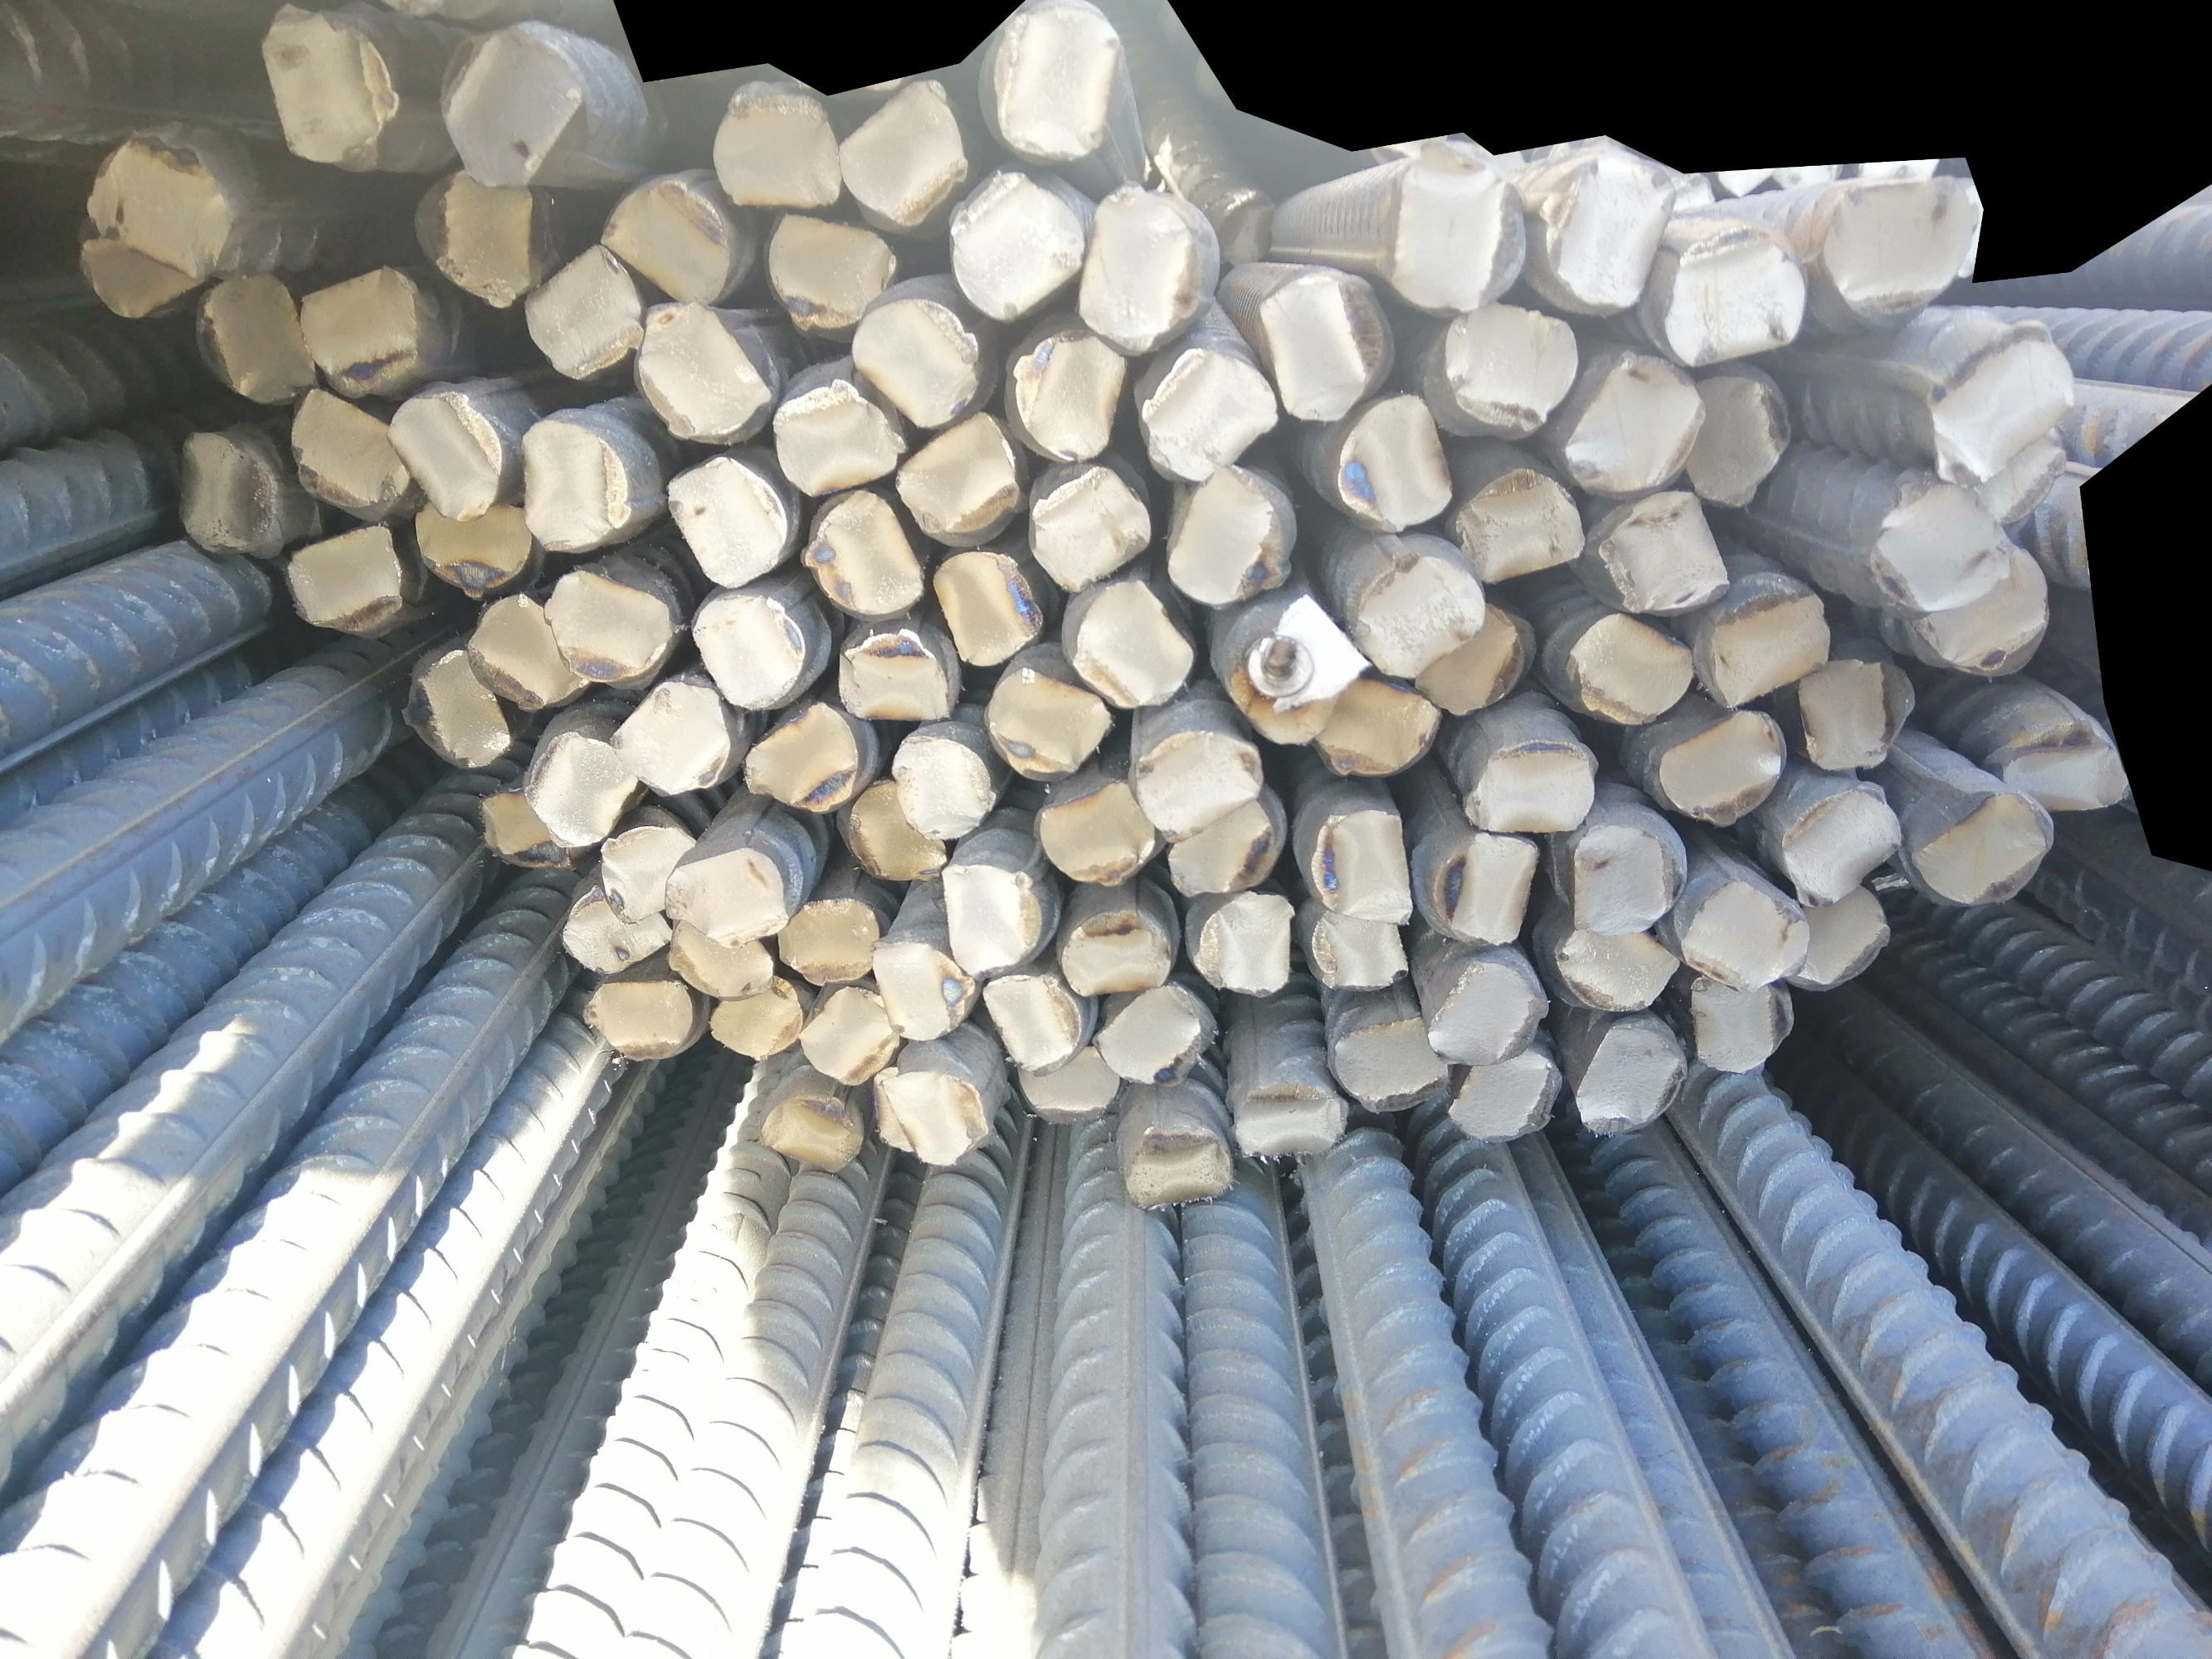rebar: (1912, 312, 2083, 484), (249, 0, 406, 171), (431, 19, 582, 190), (1825, 169, 1980, 333), (1388, 141, 1529, 314), (983, 0, 1130, 166), (1536, 155, 1679, 319), (1659, 225, 1815, 373), (1555, 349, 1705, 497), (1252, 260, 1382, 425), (1867, 476, 2020, 615), (950, 166, 1086, 321), (1433, 300, 1584, 437), (633, 298, 774, 444), (1079, 185, 1199, 356), (96, 124, 232, 274), (711, 68, 847, 218), (408, 166, 547, 310), (840, 78, 971, 230), (1140, 343, 1279, 484), (1591, 484, 1734, 619), (593, 174, 737, 307), (1346, 551, 1487, 685), (1156, 465, 1290, 605), (1914, 784, 2062, 910), (1919, 544, 2055, 680), (892, 413, 1023, 554), (661, 448, 790, 591), (847, 291, 983, 425), (1060, 579, 1198, 711), (1651, 702, 1790, 831), (385, 375, 507, 521), (288, 376, 411, 519), (1333, 390, 1455, 535), (514, 410, 633, 558), (187, 274, 319, 406), (777, 369, 910, 502), (1558, 606, 1703, 727), (77, 204, 216, 328), (1768, 779, 1909, 901), (763, 206, 898, 333), (521, 240, 643, 380), (1703, 587, 1835, 714), (1677, 366, 1792, 512), (804, 484, 927, 620), (1675, 873, 1815, 993), (296, 260, 422, 392), (1128, 725, 1262, 849), (683, 584, 812, 711), (1787, 650, 1912, 779), (985, 662, 1116, 786), (1405, 598, 1536, 721), (1225, 624, 1351, 751), (1014, 324, 1126, 467), (171, 423, 291, 556), (1025, 465, 1150, 591), (1454, 465, 1590, 580), (540, 565, 669, 685), (1461, 730, 1597, 843), (279, 512, 404, 634), (401, 643, 514, 777), (612, 673, 732, 796), (469, 586, 587, 711), (1421, 955, 1553, 1066), (929, 549, 1048, 671), (1945, 418, 2081, 525), (523, 730, 638, 854), (664, 840, 793, 948), (1429, 823, 1537, 951), (1306, 803, 1422, 922), (1572, 1019, 1689, 1138), (1034, 774, 1156, 887), (934, 852, 1046, 976), (1560, 824, 1680, 938), (408, 486, 532, 596), (1996, 721, 2132, 821), (1313, 676, 1442, 781), (1679, 971, 1801, 1080), (1323, 1012, 1455, 1114), (743, 702, 859, 816), (1093, 979, 1213, 1089), (1548, 924, 1686, 1019), (872, 1063, 994, 1169), (1781, 884, 1898, 993), (835, 622, 953, 730), (983, 967, 1095, 1077), (889, 735, 997, 849), (1163, 795, 1281, 897), (1121, 1117, 1236, 1220), (1452, 1044, 1567, 1145), (838, 774, 945, 882), (1192, 896, 1299, 1004), (1234, 1072, 1351, 1168), (580, 969, 699, 1063), (593, 821, 702, 922), (870, 938, 969, 1049), (554, 884, 675, 974), (772, 890, 879, 992), (1060, 904, 1173, 999), (1302, 904, 1415, 997), (802, 985, 901, 1087), (476, 784, 580, 878), (666, 913, 777, 1000), (1016, 1039, 1123, 1126), (757, 1089, 866, 1173), (708, 978, 804, 1058), (1213, 176, 1283, 270)
